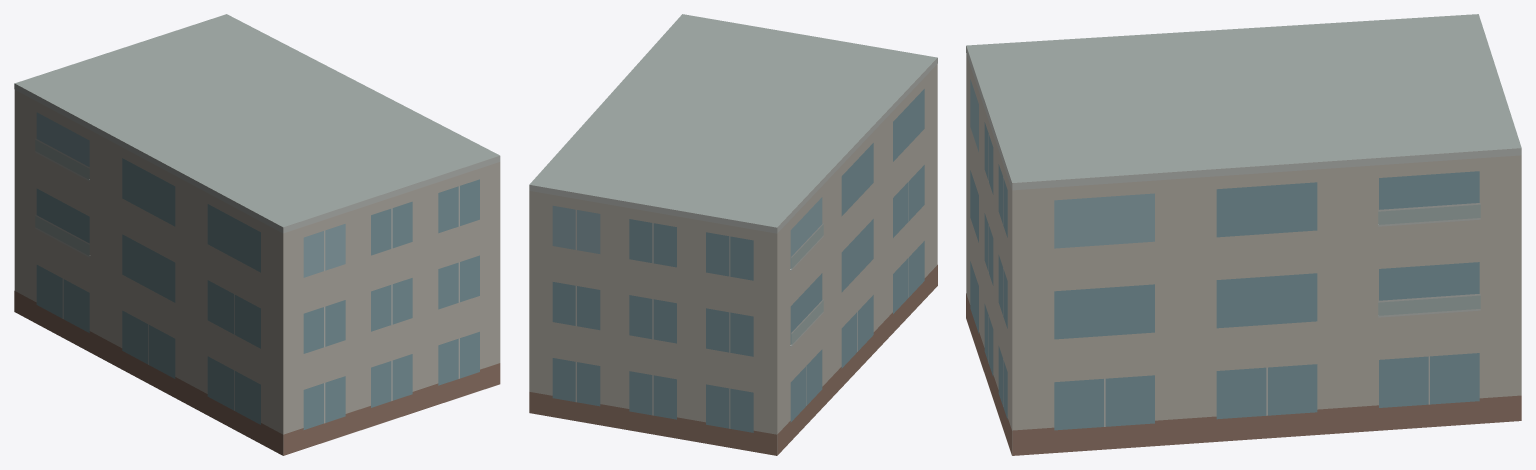
Rendered from survey-upis-32718719.glb.
The picture shows the model from 3 angles, left to right: view 1: azimuth 30°, elevation 25°; view 2: azimuth 150°, elevation 25°; view 3: azimuth 270°, elevation 25°; orthographic projection. The views are drawn at different scales.
Parts seen in each view (by area): view 1: survey-upis-32718719.tmp; view 2: survey-upis-32718719.tmp; view 3: survey-upis-32718719.tmp.
Boxes of the visible parts, x1,y1,x2,y2 form: survey-upis-32718719.tmp: (14,14,500,455); survey-upis-32718719.tmp: (529,14,937,455); survey-upis-32718719.tmp: (966,14,1521,455).
Size of the model in its own units: 12.18 by 9.15 by 16.9.
